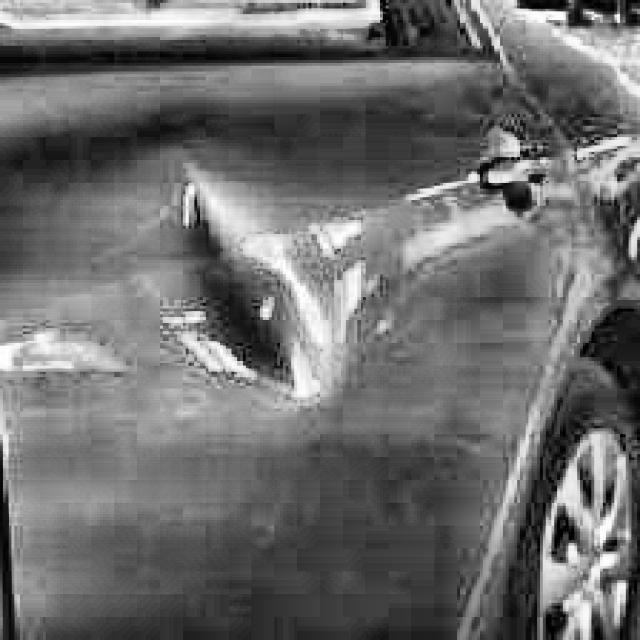door_dent: (156, 176, 361, 399)
